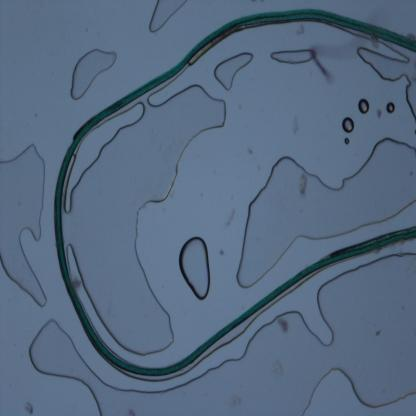Air bubble: (76, 83, 224, 348), (232, 251, 416, 414), (230, 138, 416, 292), (0, 129, 49, 310), (30, 316, 112, 412), (100, 356, 234, 413), (355, 37, 416, 123), (67, 48, 118, 102), (178, 232, 212, 302), (213, 52, 253, 91), (147, 0, 187, 36), (269, 48, 318, 64), (359, 98, 372, 114), (343, 117, 354, 135), (386, 101, 397, 115)
Microfibre: (51, 7, 416, 377)
